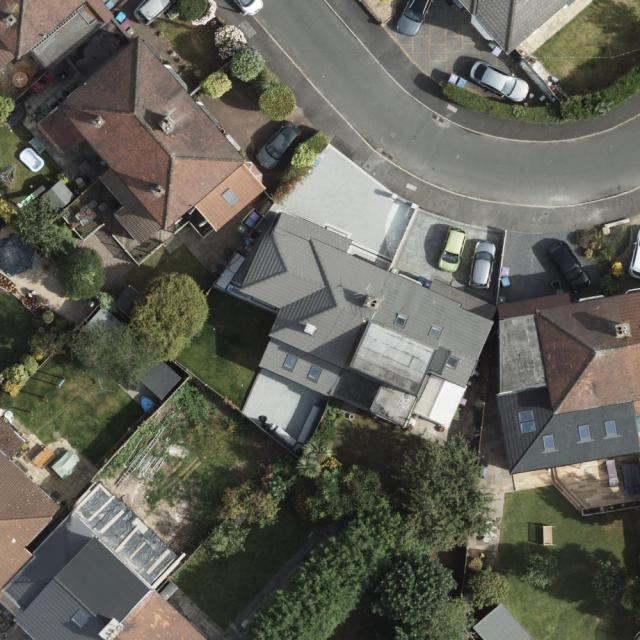roof: (240, 210, 499, 429), (38, 32, 270, 248), (0, 416, 207, 640), (496, 289, 640, 474), (0, 0, 115, 74), (456, 0, 576, 56)
skylight: (518, 408, 537, 436), (69, 608, 91, 631), (281, 353, 299, 372), (221, 188, 239, 206), (543, 432, 556, 453), (307, 364, 322, 382), (393, 313, 410, 327), (445, 353, 459, 369), (429, 324, 443, 339), (579, 424, 591, 441)
